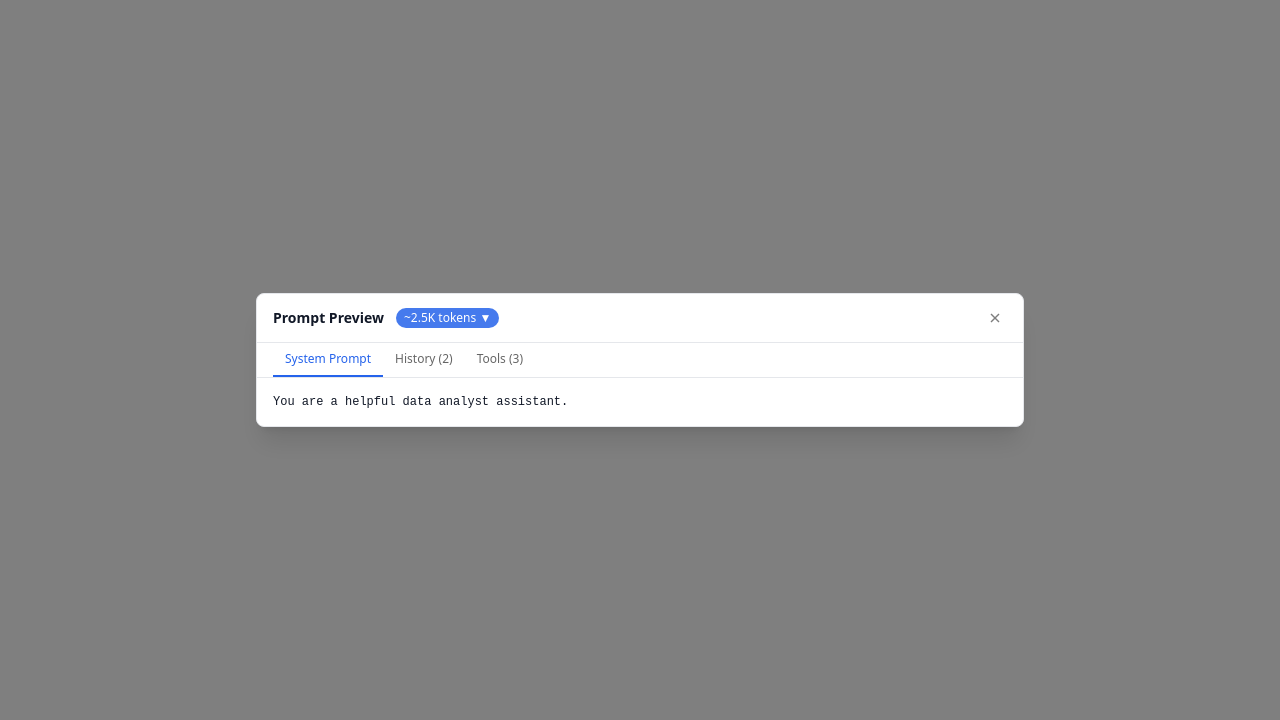
Test: PPM-TABS: Tab rendering and switching › switches to Tools tab and shows tool names
Check: the button "System Prompt" is shown, box x1=273 y1=343 x2=383 y2=377
Click the button "Tools (3)". click: (500, 360)
box: x1=465 y1=343 x2=535 y2=377
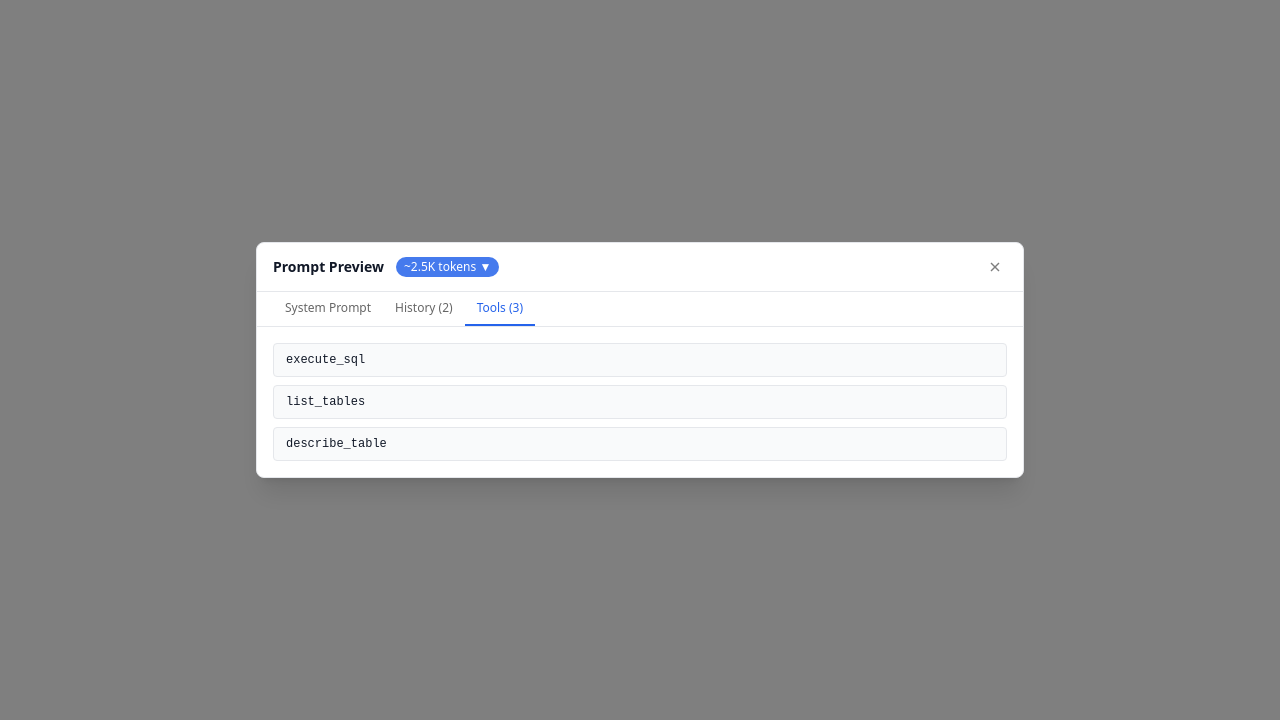
Check: the text "execute_sql" is shown, box x1=273 y1=343 x2=1007 y2=377
Check: the text "list_tables" is shown, box x1=273 y1=385 x2=1007 y2=419
Check: the text "describe_table" is shown, box x1=273 y1=427 x2=1007 y2=461
